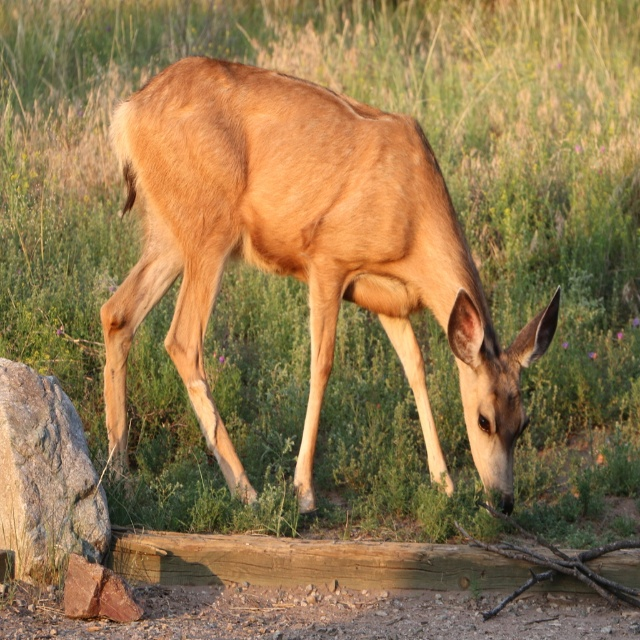Deer: (99, 53, 562, 526)
